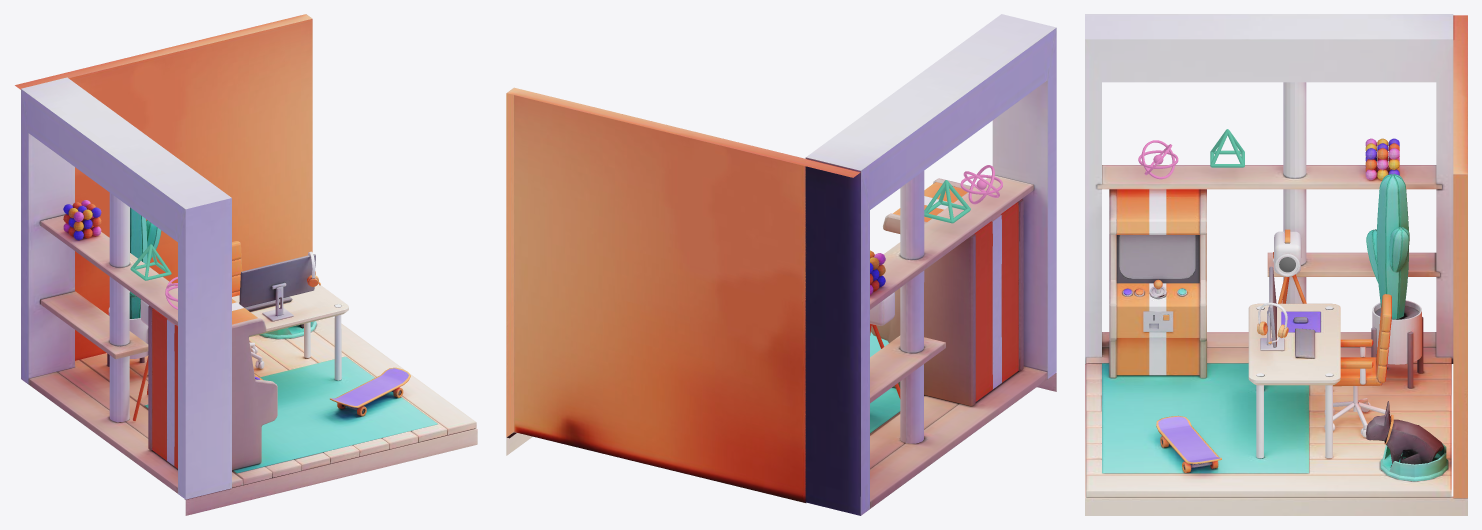
Rendered from level-react-draco.glb.
3 views of the same model, side by side, from view 1: azimuth 30°, elevation 25°; view 2: azimuth 150°, elevation 25°; view 3: azimuth 270°, elevation 25° (orthographic). The views are drawn at different scales.
Visible parts, largest first — view 1: Level, Cactus, Pyramid; view 2: Level, Pyramid, React; view 3: Level, Cactus, Sudo, Camera.001, React, Pyramid, SudoHead.
Boxes of the visible parts, x1=… form: Level: x1=15, y1=14, x2=477, y2=515; Cactus: x1=129, y1=207, x2=161, y2=318; Pyramid: x1=130, y1=244, x2=171, y2=280; Level: x1=506, y1=14, x2=1056, y2=515; Pyramid: x1=924, y1=180, x2=970, y2=223; React: x1=960, y1=165, x2=1002, y2=204; Level: x1=1085, y1=14, x2=1467, y2=515; Cactus: x1=1366, y1=174, x2=1409, y2=319; Sudo: x1=1384, y1=419, x2=1443, y2=467; Camera.001: x1=1273, y1=229, x2=1301, y2=276; React: x1=1138, y1=140, x2=1178, y2=179; Pyramid: x1=1210, y1=129, x2=1244, y2=167; SudoHead: x1=1366, y1=401, x2=1393, y2=444.
Size of the model in its own units: 2 by 2.01 by 2.03.
5 materials, 2 textured.
